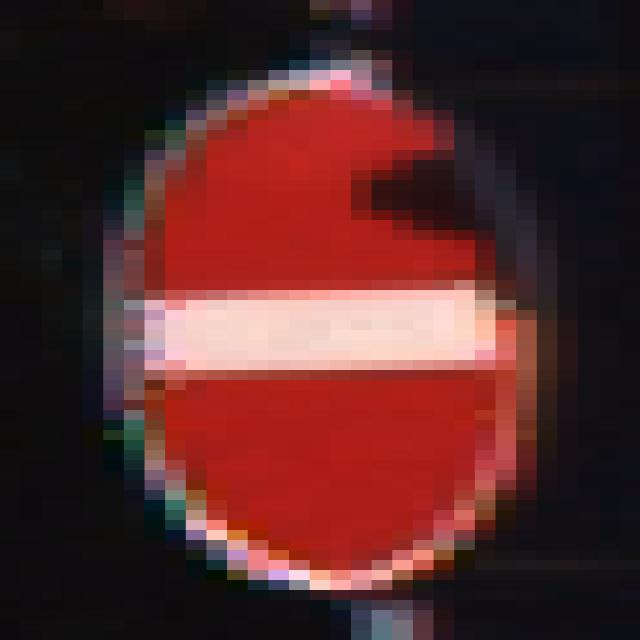No Entry: (104, 61, 538, 591)
